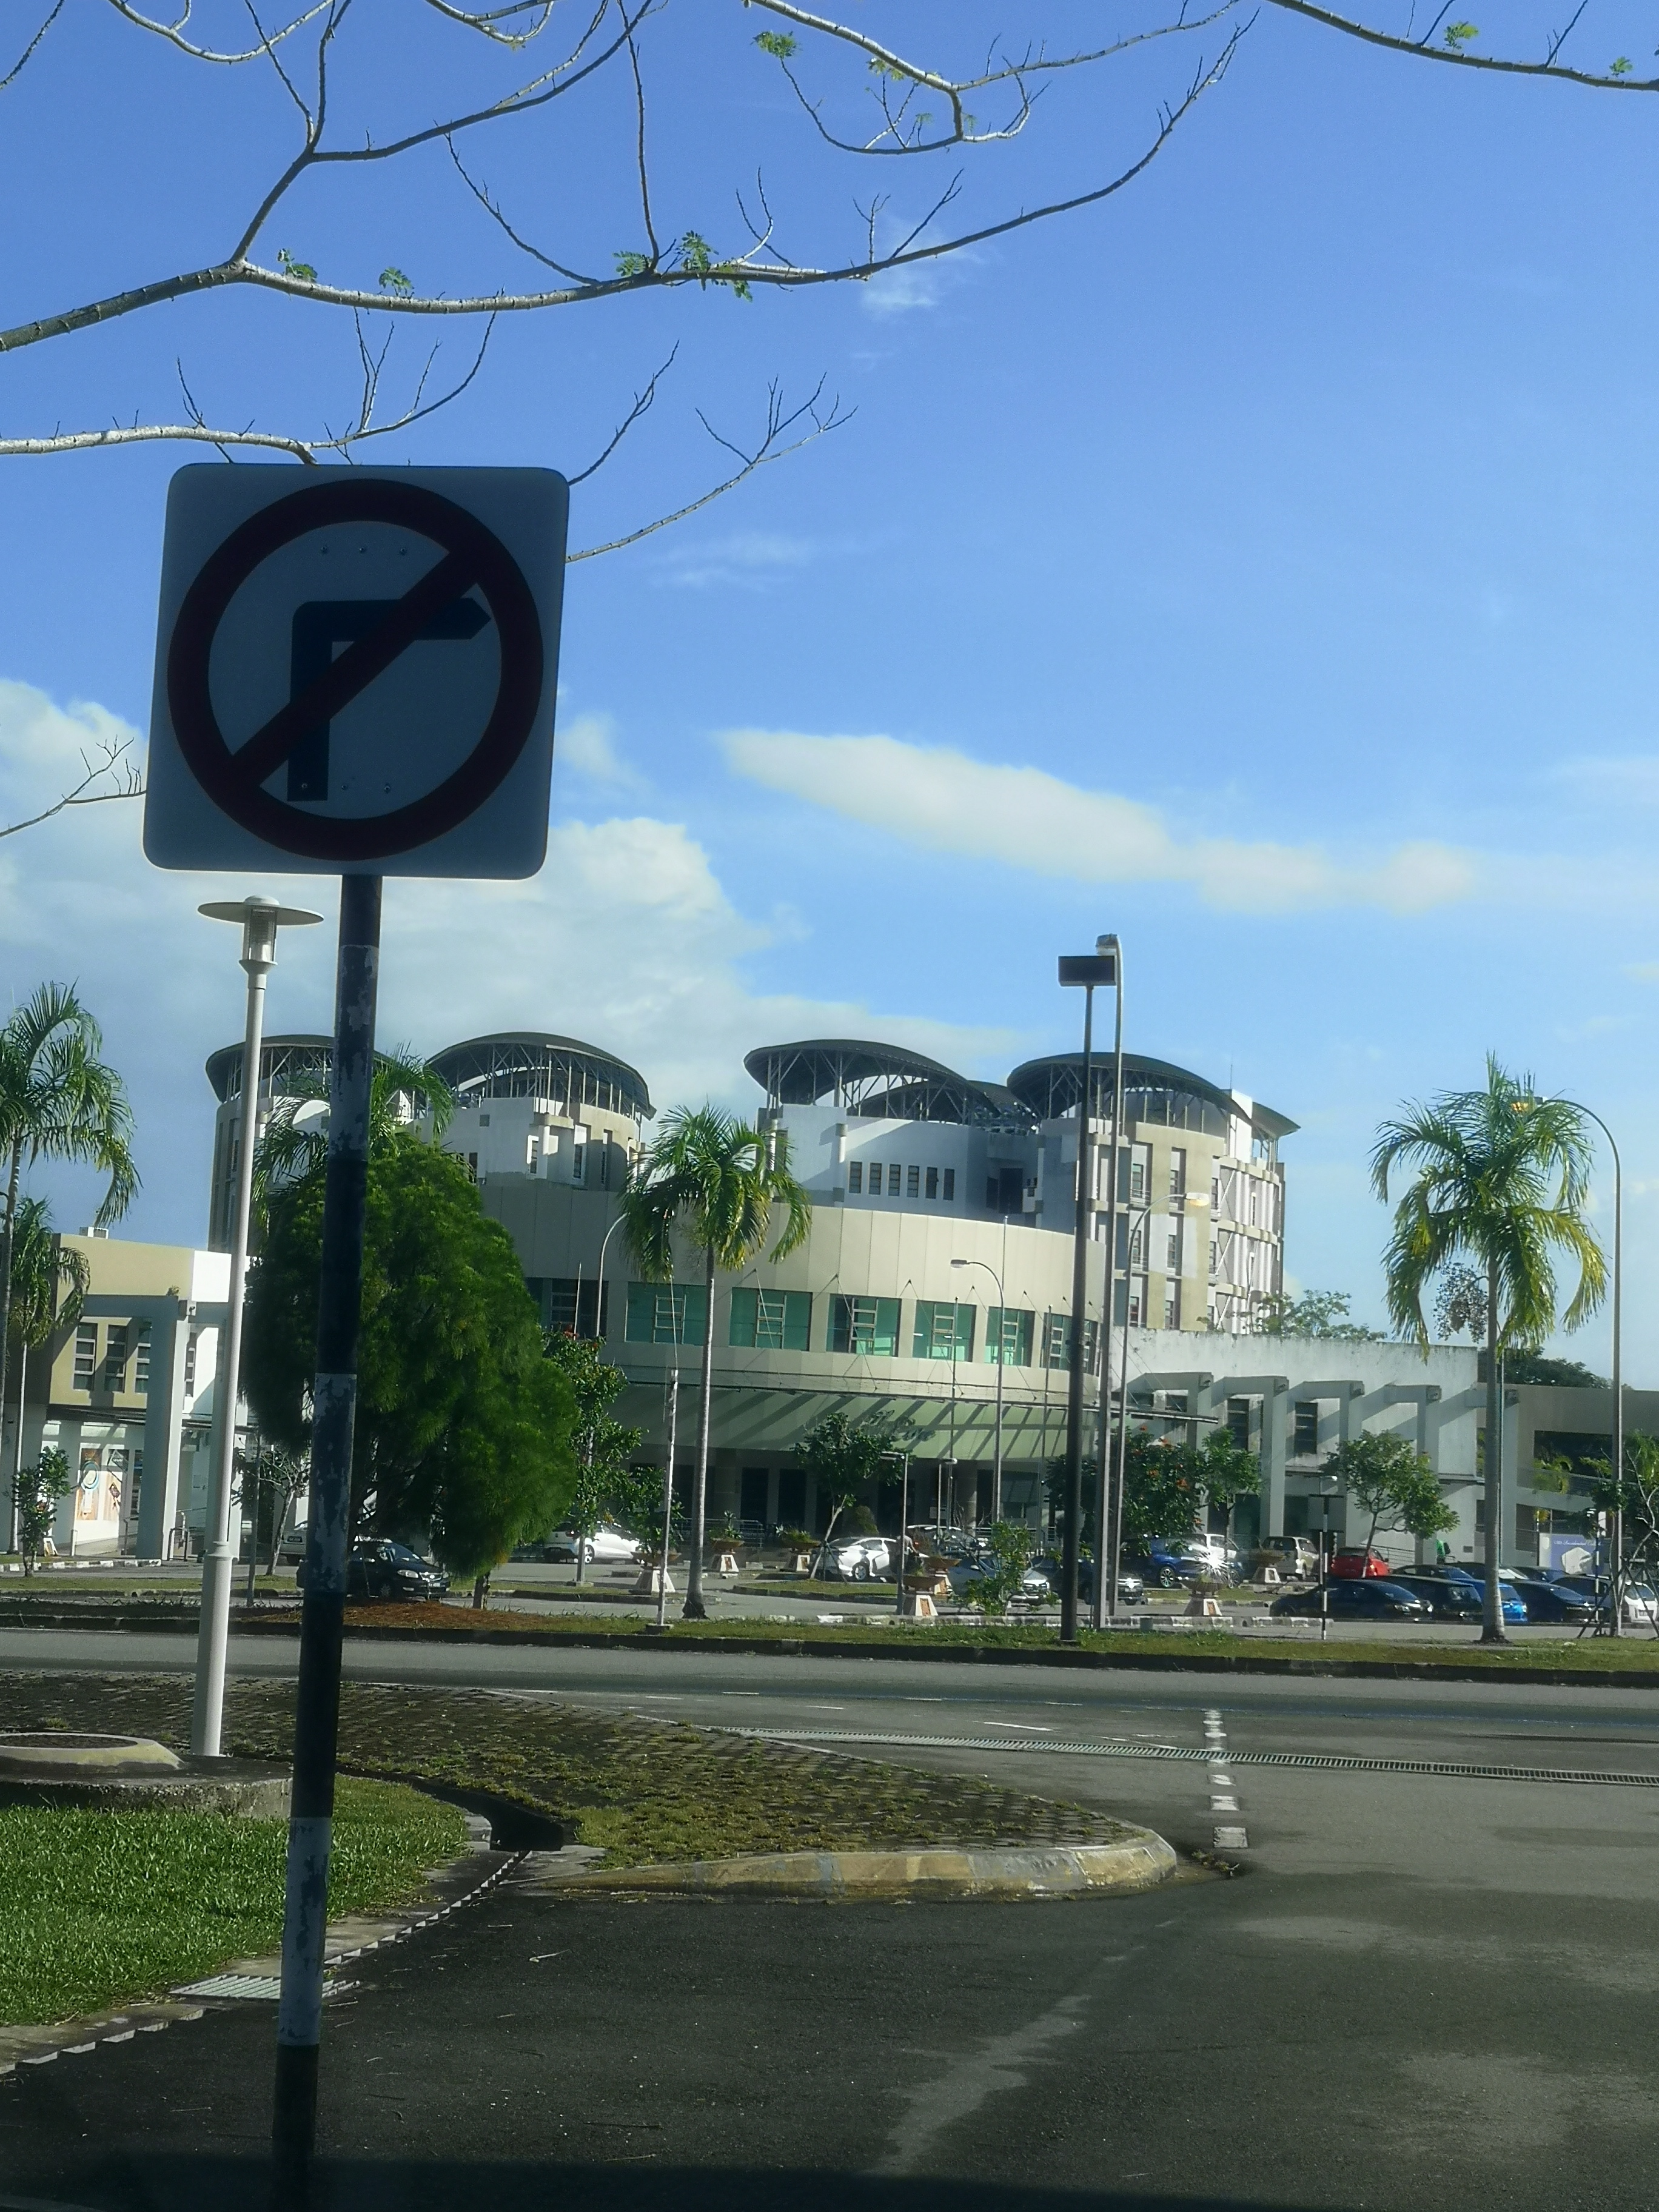no right turn: (152, 458, 561, 873)
